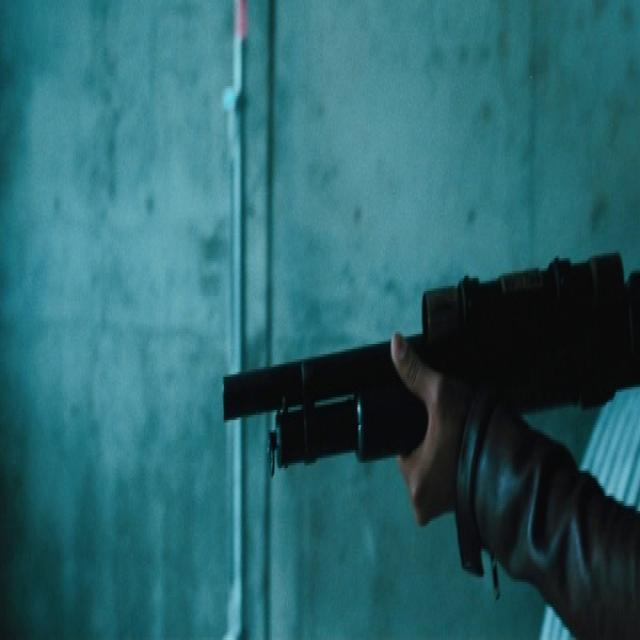rifle: (222, 239, 640, 482)
